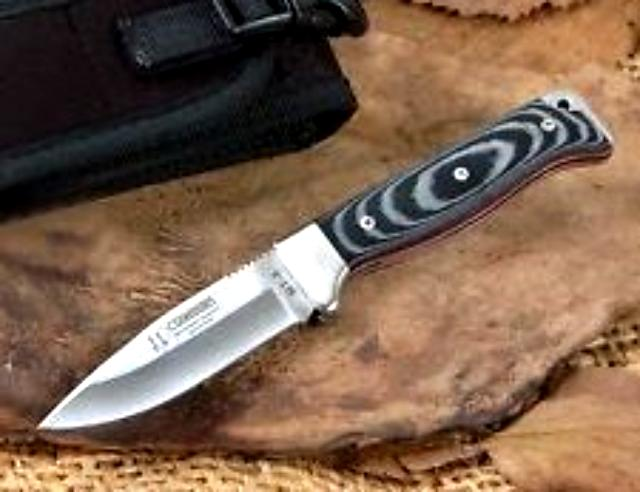pocket-knife: (26, 82, 614, 434)
